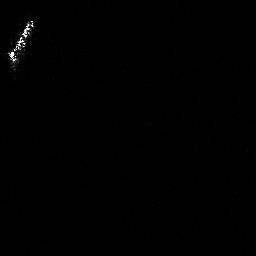ship: (5, 18, 37, 71)
